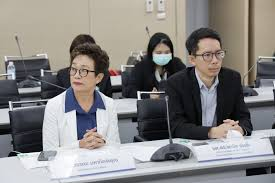mask: (151, 51, 175, 67)
